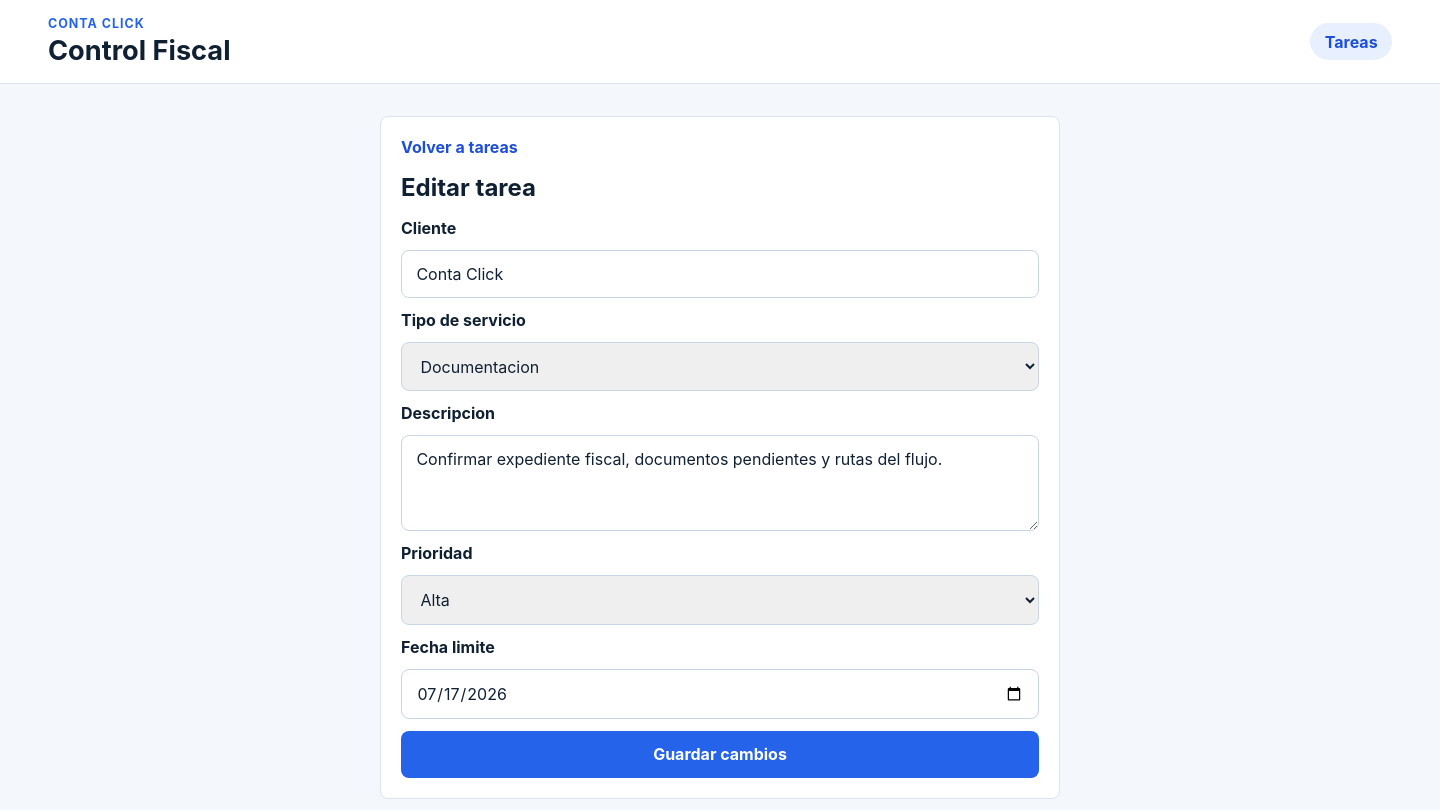
Test: App › permite editar una tarea desde su ruta
This screenshot has width=1440, height=810.
Replace the text in the field with id "client" with "Cliente actualizado" at (720,274), box [401,250,1039,298]
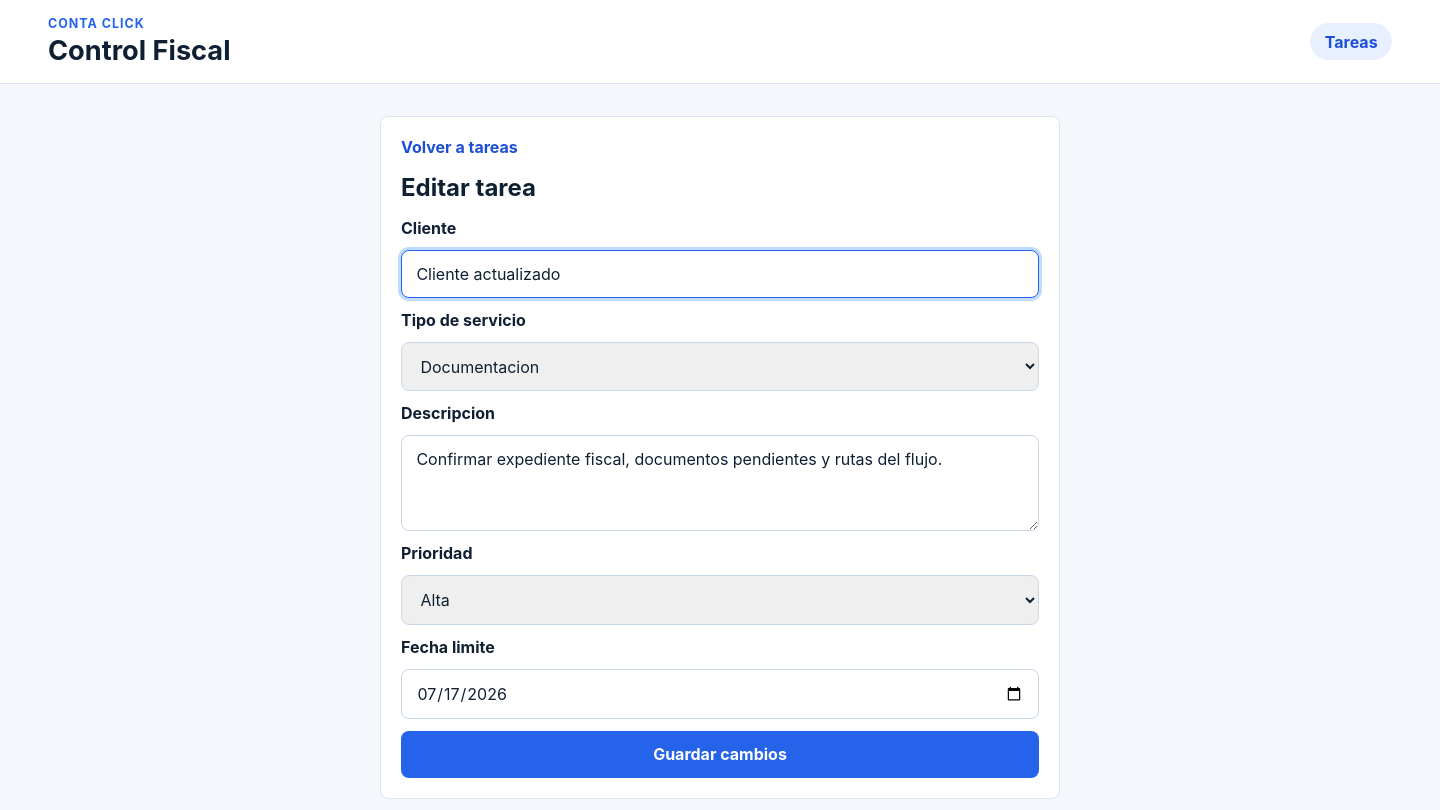
Replace the text in the text box with id "description" with "Expediente fiscal actualizado" at (720,483), box [401,435,1039,531]
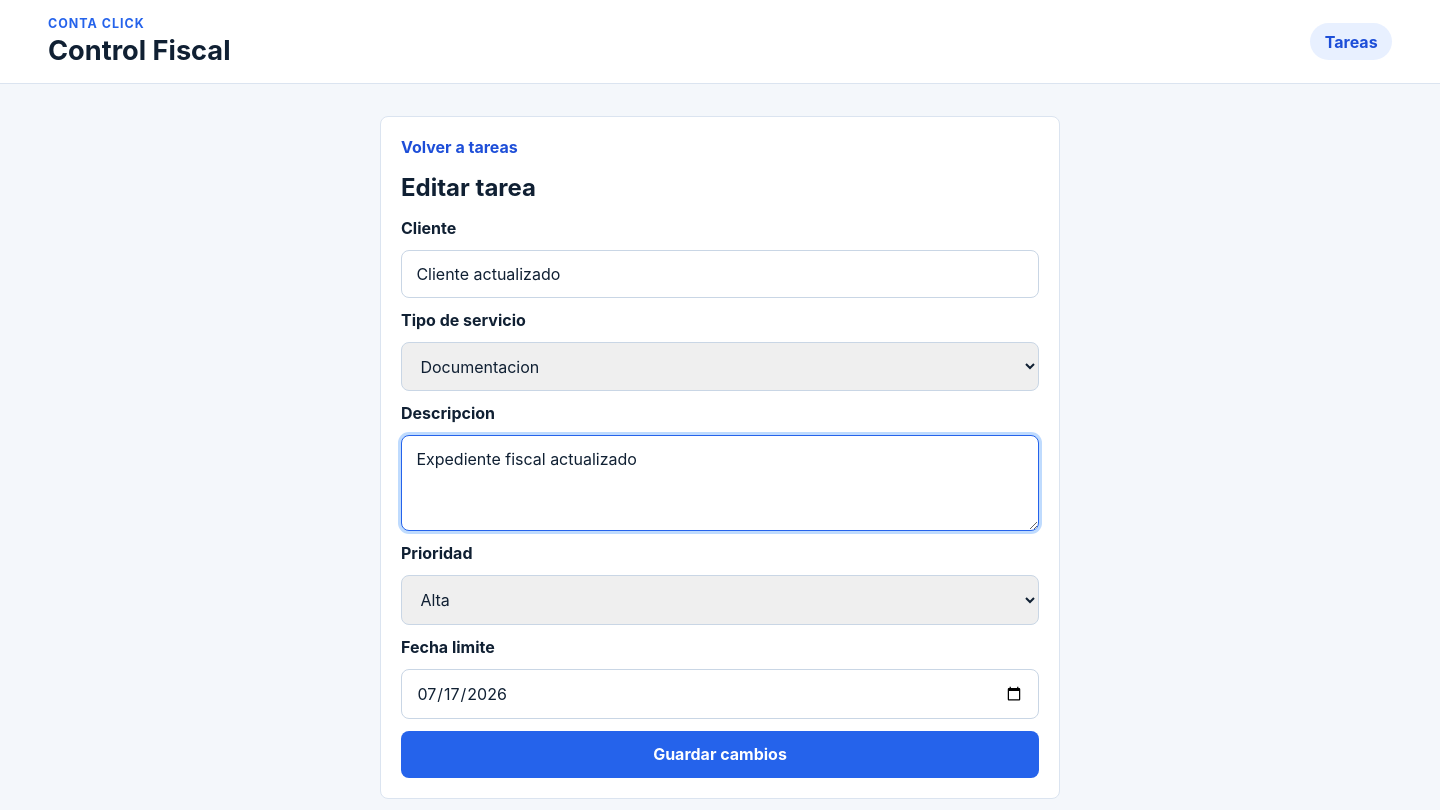
Click the button "Guardar cambios" at (720,754), box [401,731,1039,778]
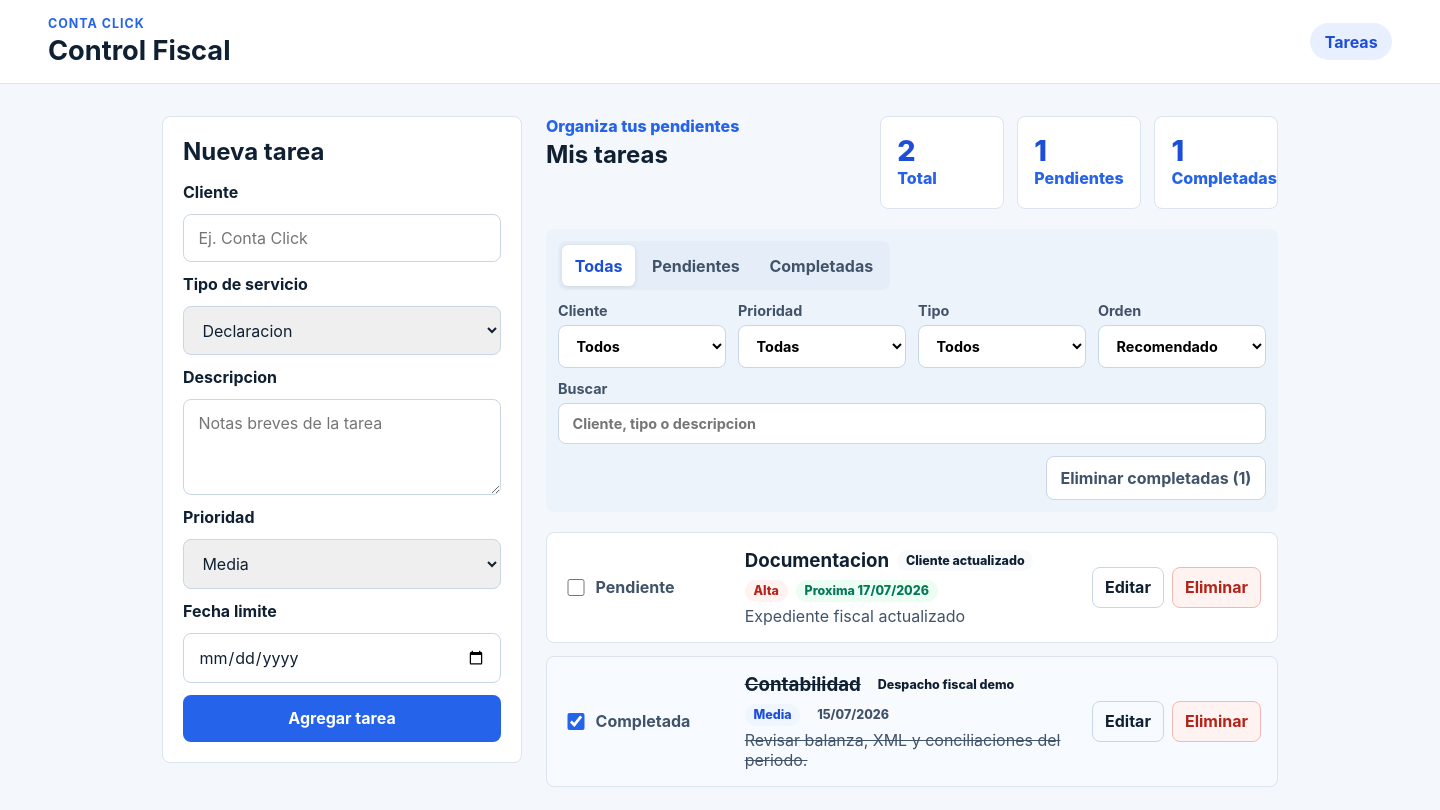
expect the text "Expediente fiscal actualizado" is shown: met, box [745,606,965,626]
expect the text "Cliente actualizado" is shown: met, box [897,550,1033,572]
